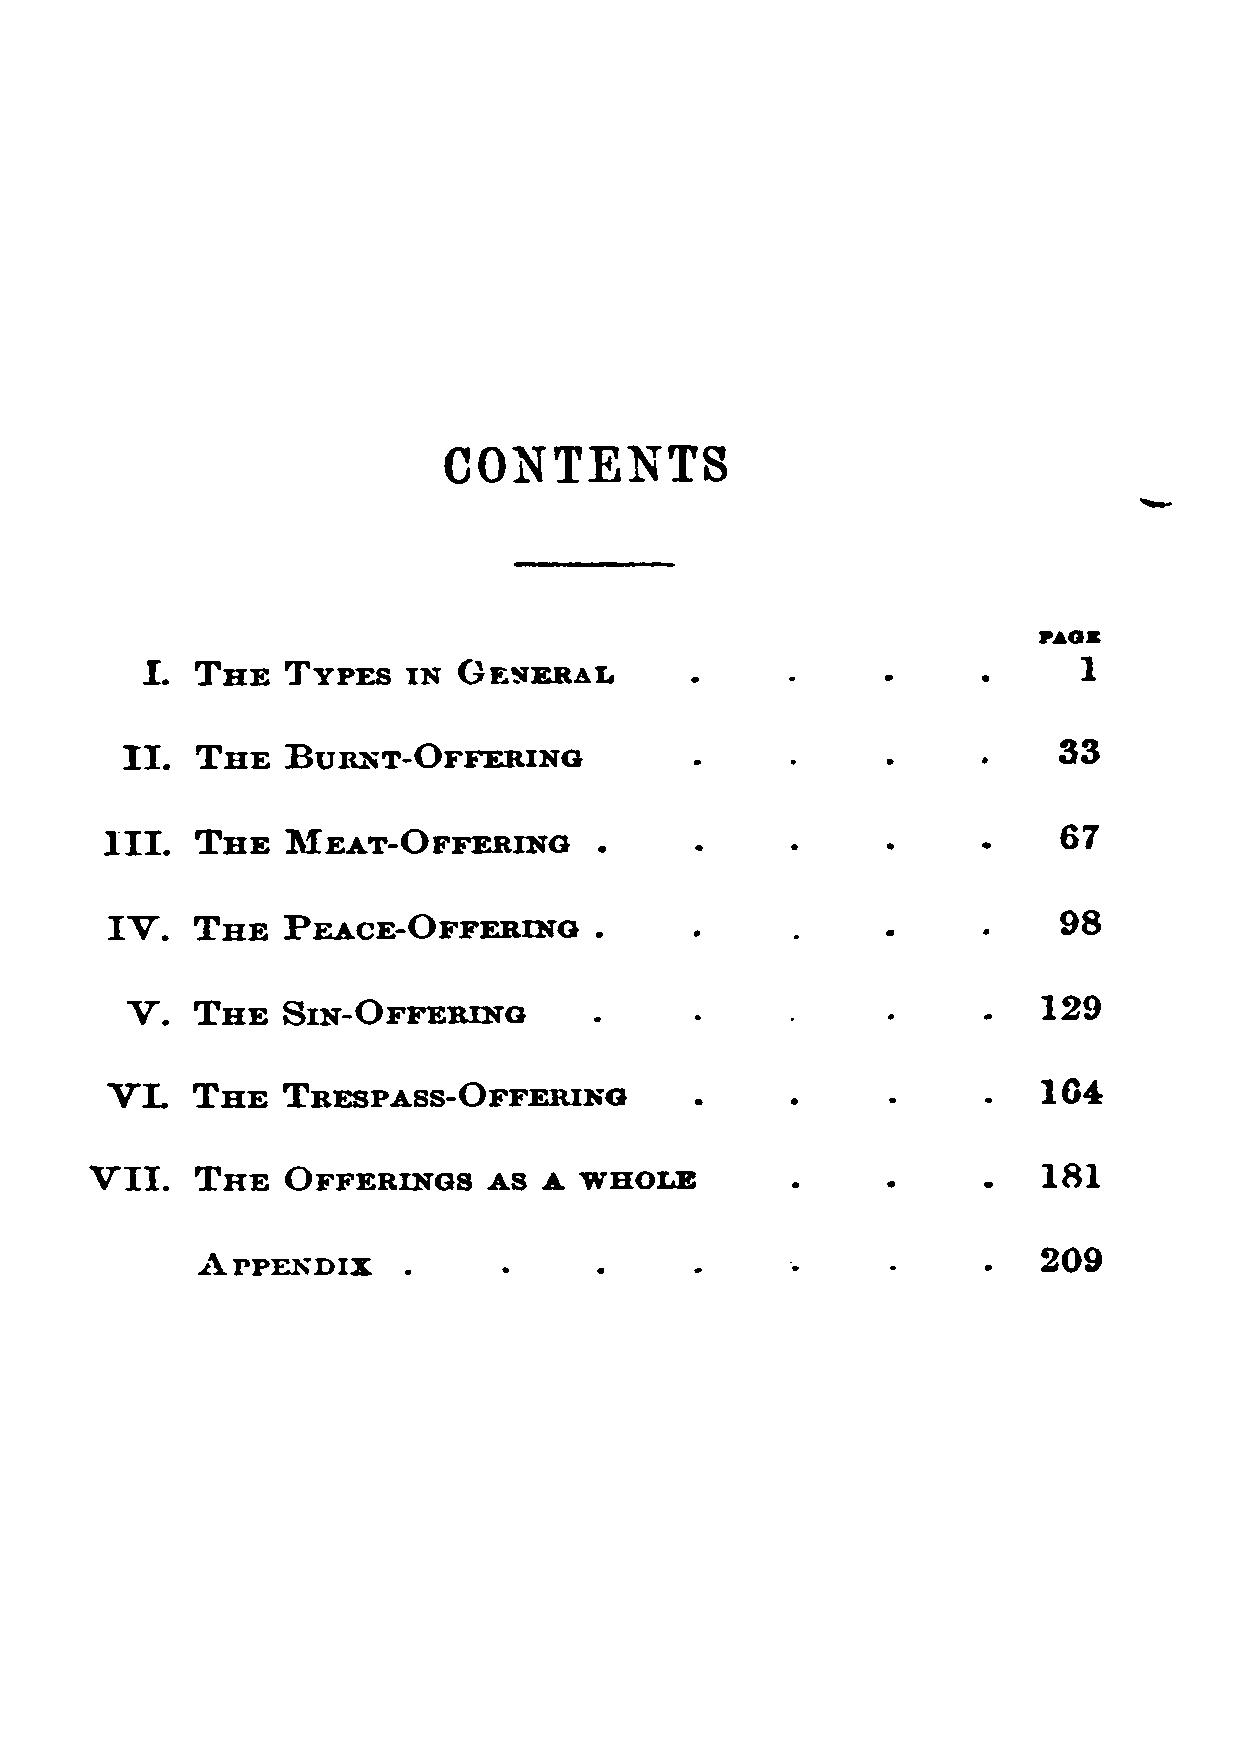TOC_chapter: (89, 1157, 705, 1202), (103, 1074, 633, 1115), (101, 906, 586, 945), (140, 654, 624, 692), (115, 738, 586, 772), (101, 821, 572, 855), (126, 993, 530, 1032), (197, 1249, 373, 1282)
TOC_pagenumber: (1039, 986, 1108, 1028), (1033, 1072, 1106, 1111), (1039, 1154, 1100, 1193), (1039, 1244, 1104, 1275), (1053, 731, 1104, 765), (1057, 903, 1102, 937), (1059, 819, 1098, 854), (1074, 654, 1100, 682)
chapter: (439, 440, 731, 486)
